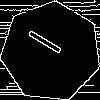I: (26, 26, 72, 62)
